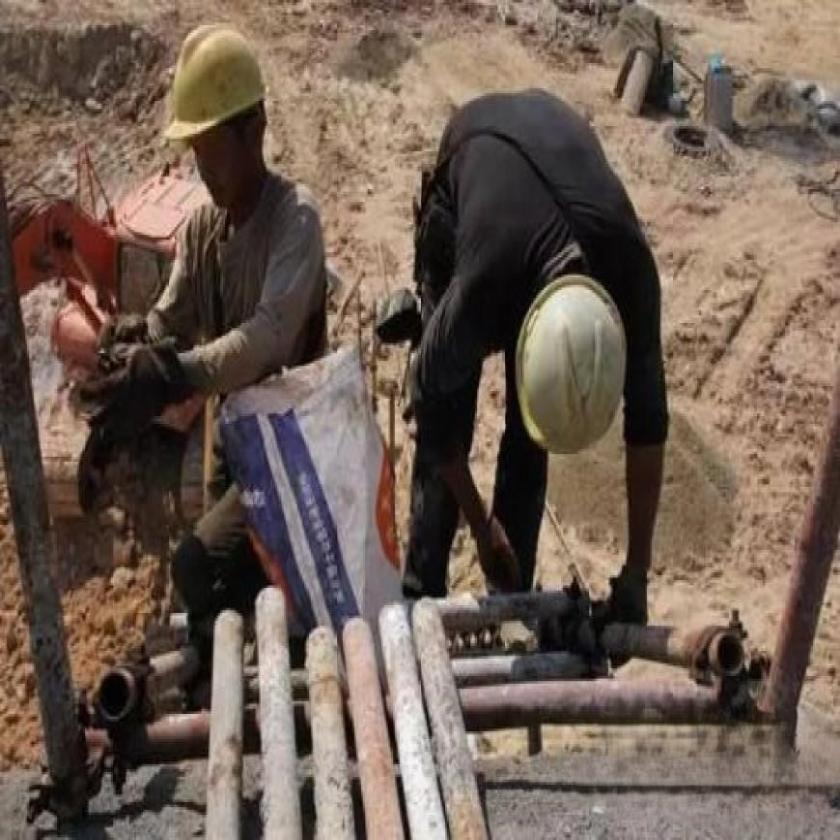Con_casco: (156, 13, 275, 225)
